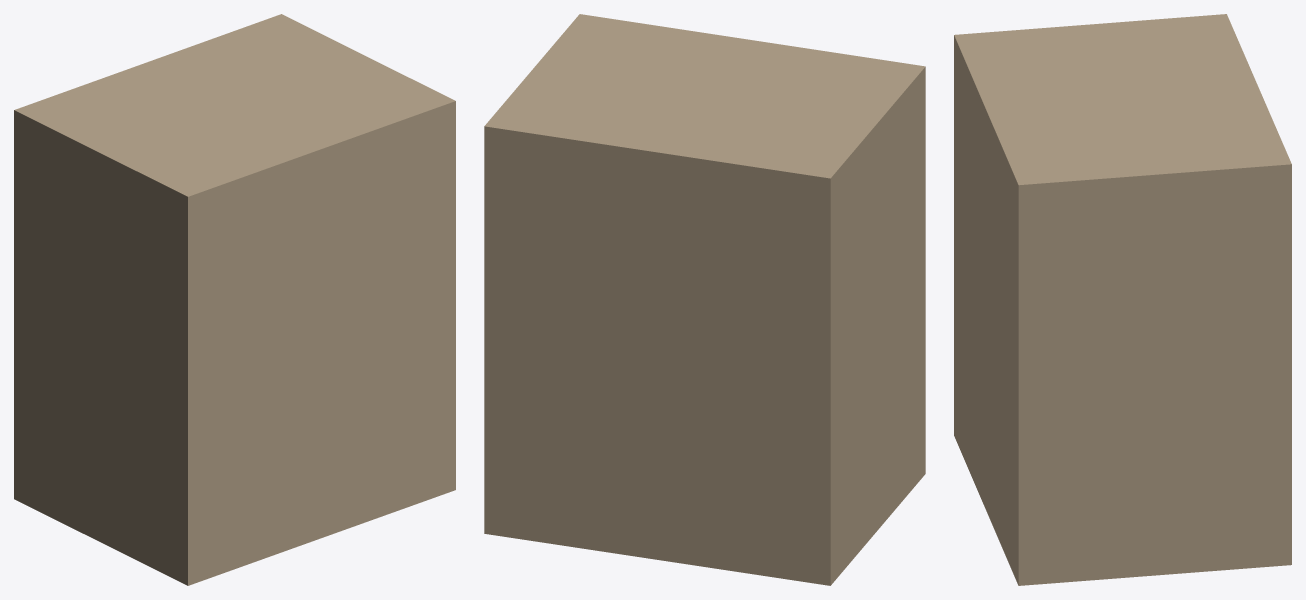
The model's file is bld_101791728.dae.
3 renders of one model, left to right at view 1: azimuth 30°, elevation 25°; view 2: azimuth 150°, elevation 25°; view 3: azimuth 270°, elevation 25°, orthographic. The views are drawn at different scales.
Visible parts, largest first — view 1: bld_101791728; view 2: bld_101791728; view 3: bld_101791728.
Boxes of the visible parts, bbox=[...] form: bld_101791728: bbox=[14, 14, 455, 585]; bld_101791728: bbox=[484, 14, 925, 585]; bld_101791728: bbox=[954, 14, 1291, 585].
Bounding box in the file's own units: 7.33 × 6.11 × 8.
